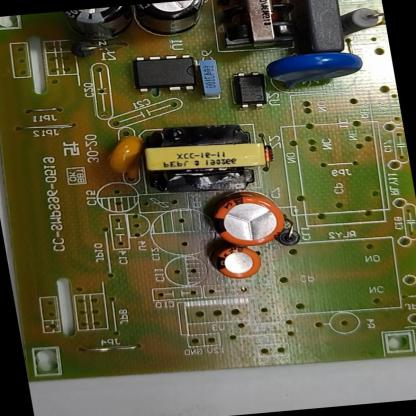Cap1: (194, 180, 297, 253)
Cap2: (205, 236, 270, 285)
Cap3: (123, 0, 213, 44)
Cap4: (58, 5, 143, 45)
MOSFET: (127, 48, 206, 103)
Mov: (258, 47, 374, 94)
Resistor: (330, 3, 387, 39)
Transformer: (124, 113, 276, 201), (205, 0, 311, 56)
